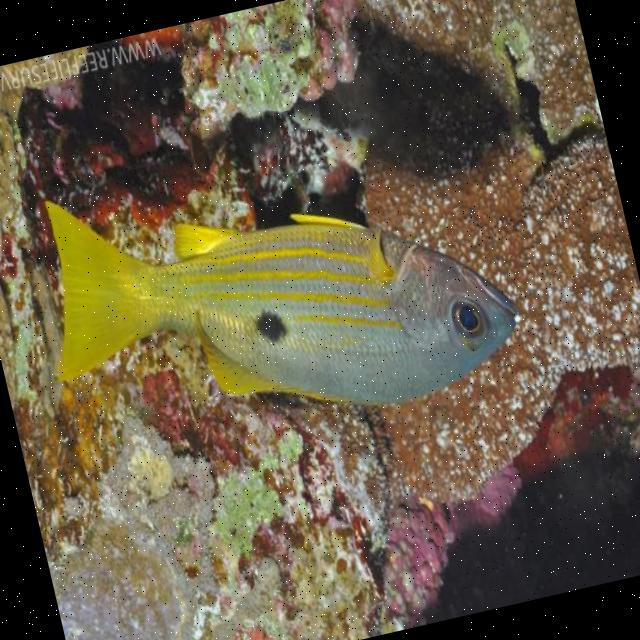ikan: (17, 101, 534, 482)
